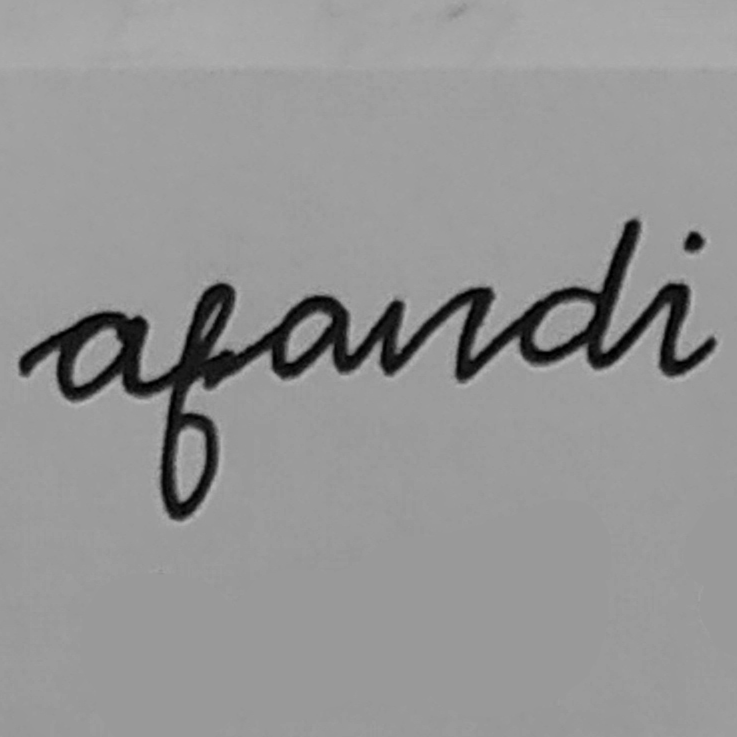a: (49, 303, 152, 409), (260, 286, 359, 389)
d: (511, 208, 647, 380)
f: (156, 278, 241, 526)
i: (652, 225, 722, 386)
n: (366, 275, 500, 389)
